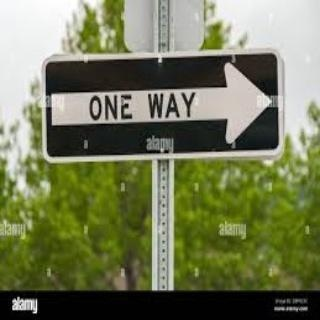sign_oneway_right: (45, 53, 280, 159)
